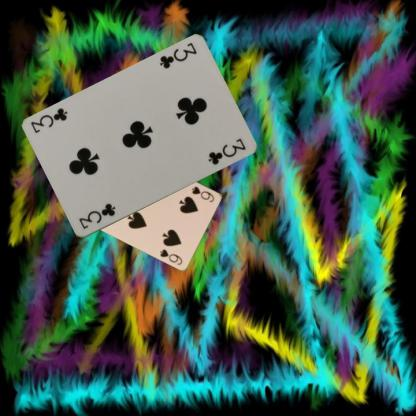3c: (157, 40, 198, 70), (76, 200, 116, 230)
6s: (189, 184, 215, 203)
